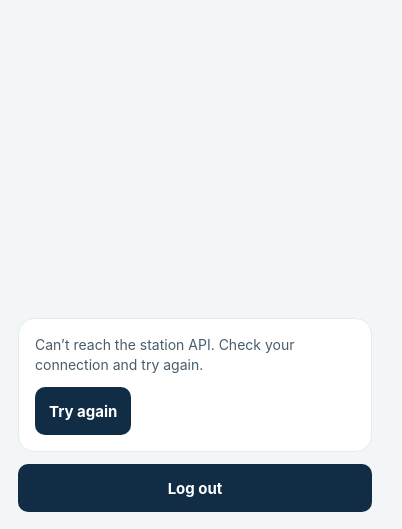
Test case: keeps saved credentials when the API is down during restore and allows retry
The width and height of the screenshot is (402, 529).
Expected: the text "Can’t reach the station API. Check your connection and try again." is shown, [35,336,298,373]
Click the button "Try again": coordinates (83, 411) [35,387,131,435]
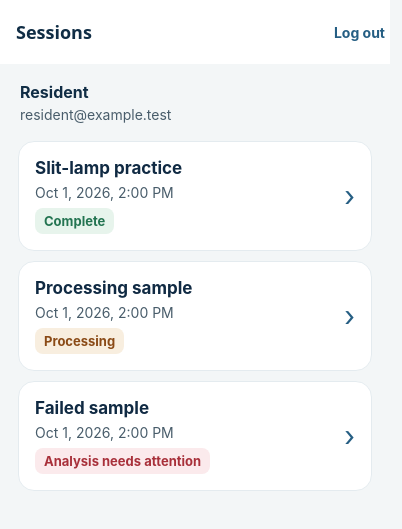
Expected: the text "Slit-lamp practice" is shown, [35,158,182,178]
